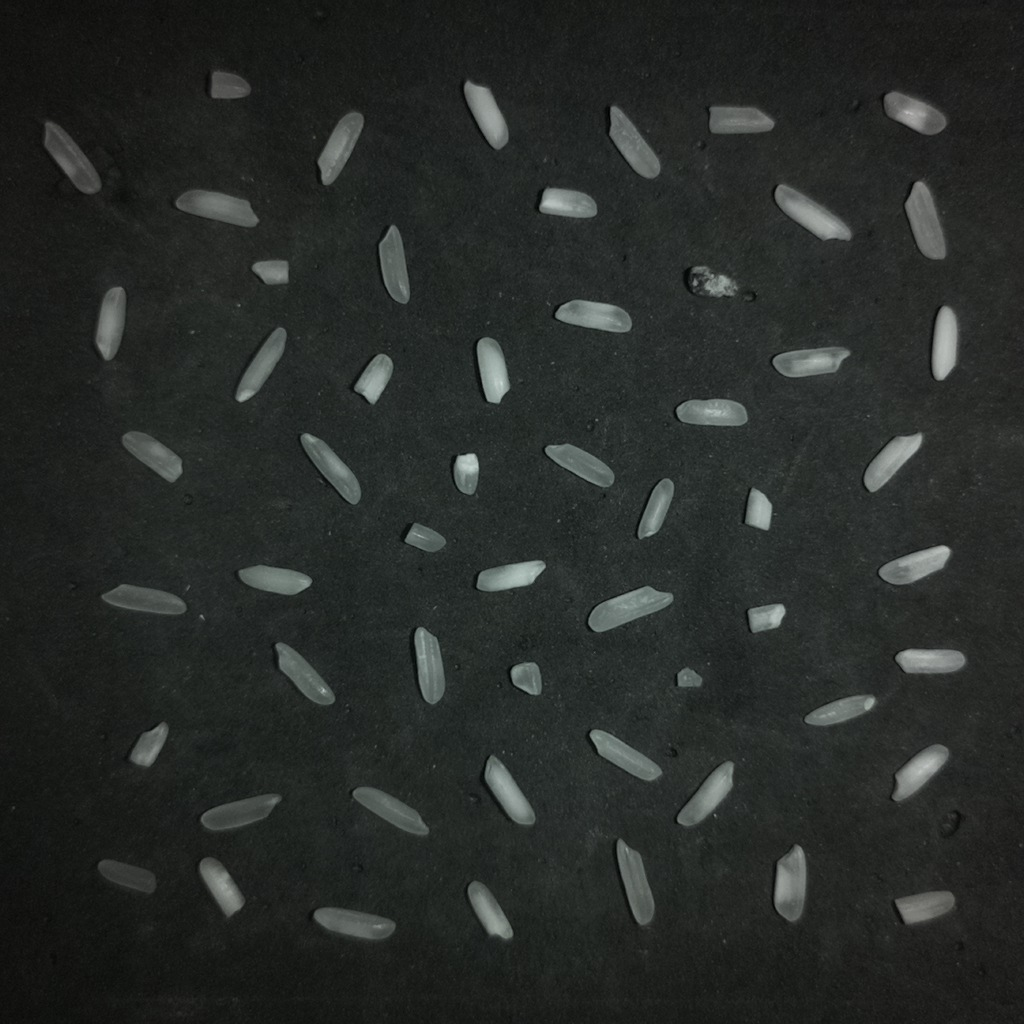broken: (97, 859, 155, 894), (894, 891, 954, 924), (931, 306, 957, 380), (708, 105, 773, 133), (208, 70, 250, 99), (453, 453, 479, 495), (404, 523, 443, 550), (510, 662, 541, 695), (251, 260, 288, 284)
chalky: (774, 184, 851, 240), (676, 761, 734, 827), (588, 586, 673, 631), (235, 327, 286, 402), (484, 755, 535, 826), (864, 433, 922, 492), (317, 111, 363, 185), (891, 744, 949, 801), (463, 80, 508, 149), (175, 190, 258, 227), (878, 545, 950, 584), (883, 91, 946, 135), (199, 857, 244, 917), (467, 881, 512, 939), (773, 844, 806, 922), (554, 299, 631, 332), (94, 287, 125, 360), (237, 565, 310, 595), (477, 560, 545, 591), (128, 722, 169, 768), (539, 188, 596, 218), (895, 649, 965, 673), (744, 488, 772, 530), (747, 603, 785, 632)
foreign: (684, 266, 738, 297), (512, 662, 541, 695), (676, 667, 702, 687)
whole: (300, 433, 360, 504), (44, 121, 100, 194), (274, 642, 334, 705), (589, 729, 661, 781), (609, 105, 660, 178), (352, 787, 428, 835), (904, 181, 946, 259), (616, 839, 654, 924), (122, 431, 181, 482), (200, 794, 281, 831), (544, 444, 613, 487), (313, 907, 395, 940), (101, 584, 186, 614), (378, 225, 409, 303), (414, 627, 445, 704), (772, 346, 849, 377), (804, 695, 875, 726), (476, 337, 509, 403), (637, 478, 673, 538), (353, 353, 393, 404), (675, 398, 747, 426)
